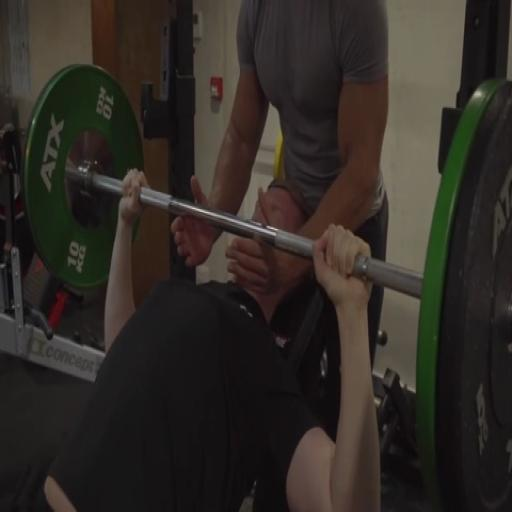exercise: (41, 166, 384, 510)
